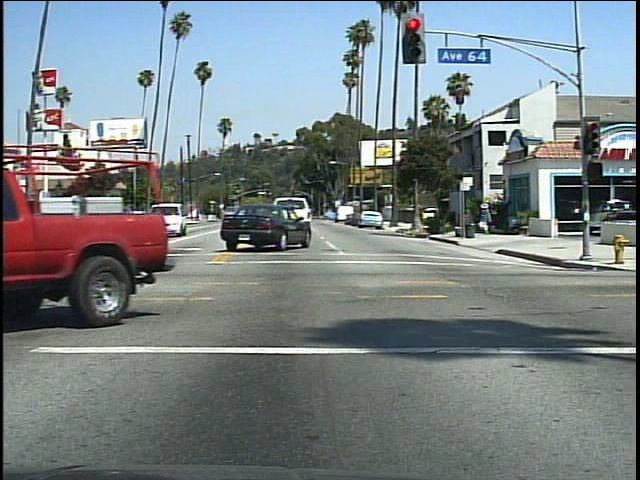person: (476, 199, 497, 238)
